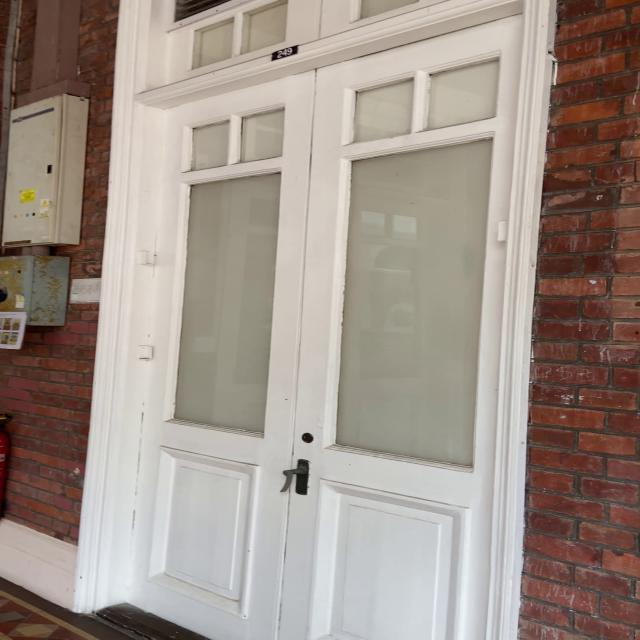room249: (268, 44, 302, 63)
